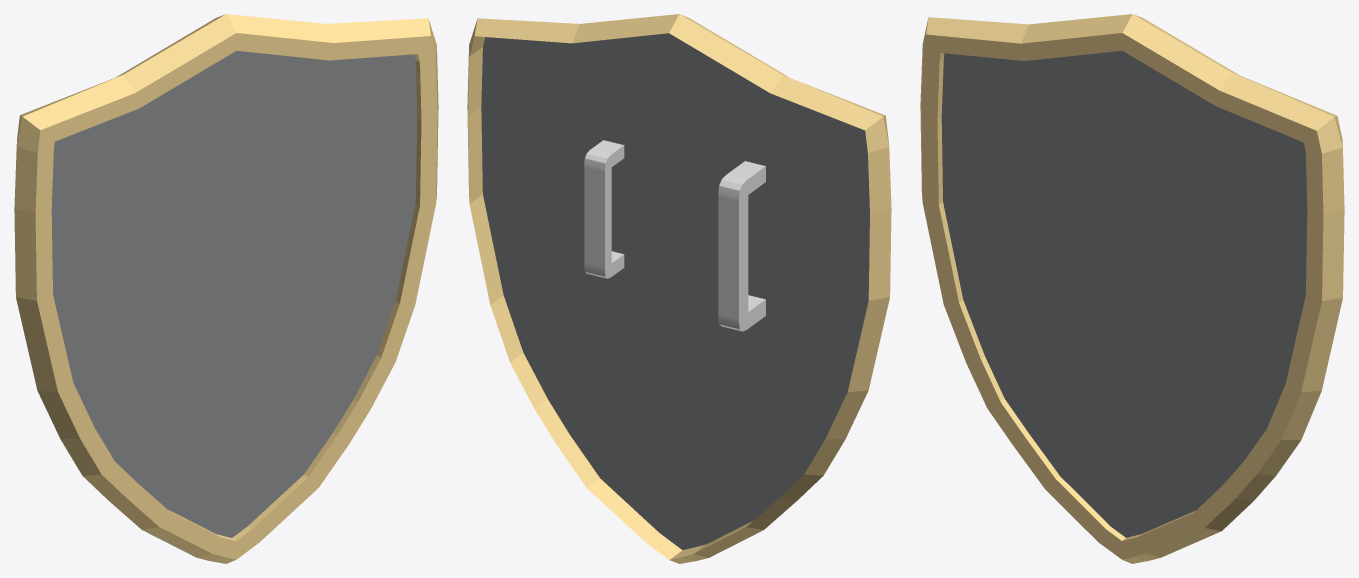
Rendered from Shield.fbx.
The picture shows the model from 3 angles, left to right: view 1: azimuth 30°, elevation 25°; view 2: azimuth 150°, elevation 25°; view 3: azimuth 330°, elevation 25°; orthographic projection.
Parts seen in each view (by area): view 1: Box001; view 2: Box001, Box003, Box002; view 3: Box001.
Part boxes in pixels (box(x1,y1,x2,y2)): Box001: box(14, 14, 438, 563); Box001: box(467, 14, 891, 563); Box003: box(718, 161, 765, 331); Box002: box(584, 140, 624, 278); Box001: box(920, 14, 1344, 563).
Size of the model in its own units: 17.08 by 21.16 by 2.37.
